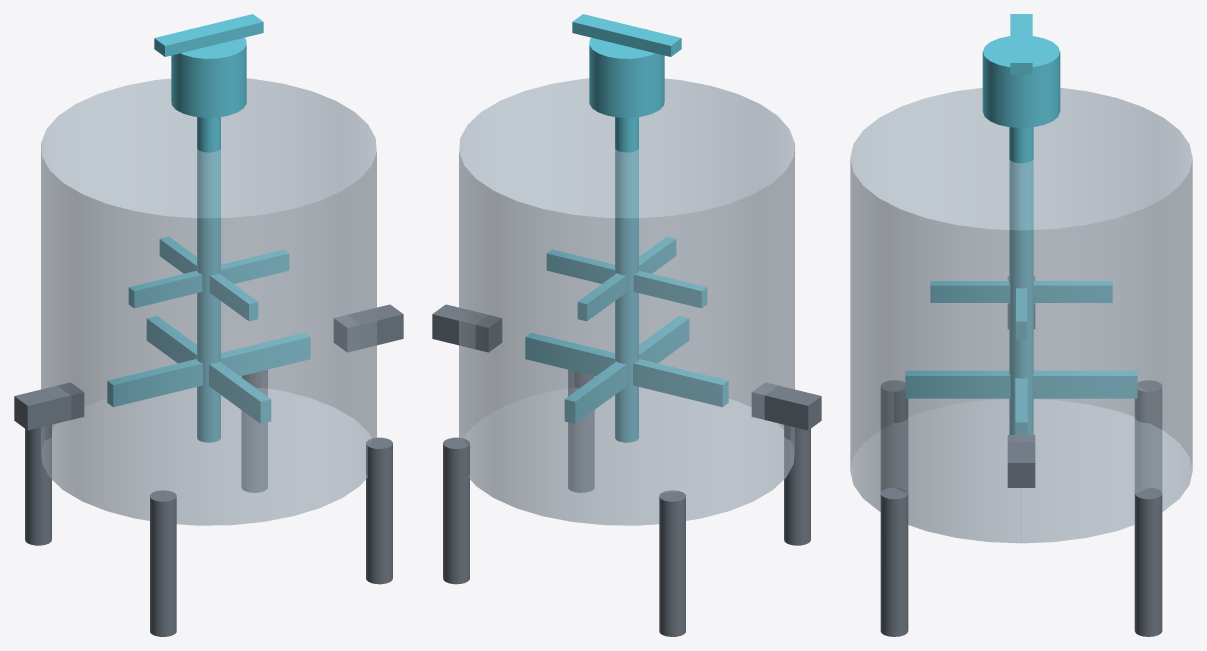
The model's file is mixing-tank-agitator.glb.
The picture shows the model from 3 angles, left to right: view 1: azimuth 30°, elevation 25°; view 2: azimuth 150°, elevation 25°; view 3: azimuth 270°, elevation 25°; orthographic projection.
Visible parts, largest first — view 1: Stainless_Tank_Vessel, Agitator_Impeller_Axis, Tank_Support_Skid; view 2: Stainless_Tank_Vessel, Agitator_Impeller_Axis, Tank_Support_Skid; view 3: Stainless_Tank_Vessel, Agitator_Impeller_Axis, Tank_Support_Skid.
Part boxes in pixels (x1,y1,x2,y2): Stainless_Tank_Vessel: (41, 78, 376, 525); Agitator_Impeller_Axis: (107, 14, 310, 442); Tank_Support_Skid: (14, 304, 403, 636); Stainless_Tank_Vessel: (459, 78, 794, 525); Agitator_Impeller_Axis: (525, 14, 728, 442); Tank_Support_Skid: (432, 304, 821, 636); Stainless_Tank_Vessel: (850, 88, 1192, 543); Agitator_Impeller_Axis: (905, 14, 1137, 434); Tank_Support_Skid: (880, 276, 1162, 636).
Size of the model in its own units: 1.6 by 2.15 by 1.24.
